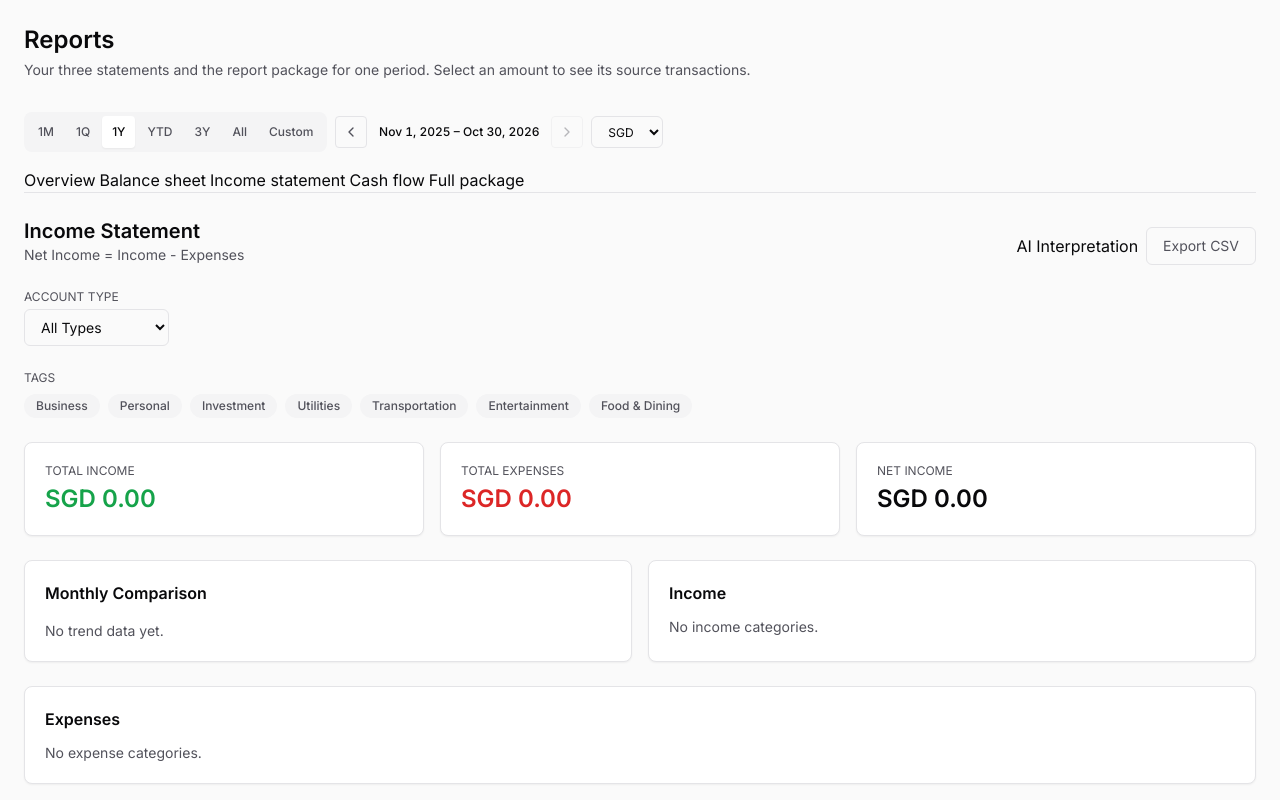
IncomeStatementPage › AC16.14.6 supports selecting and clearing tags
Expected: the heading "Income Statement" is shown, [24,219,200,243]
Click the button "Business" at (62, 406), box [24,394,100,418]
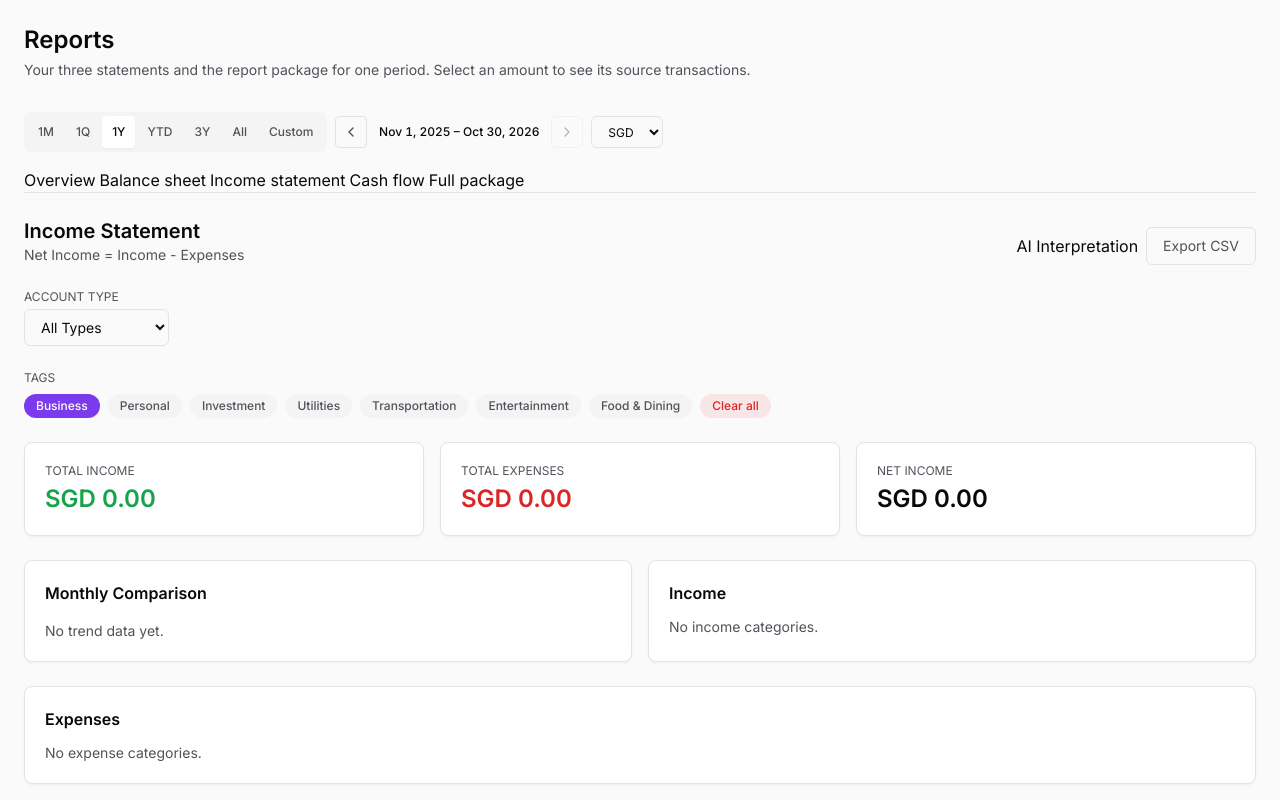
A second click on a selected tag removes only that tag.
Click the button "Personal" at (145, 406), box [108,394,182,418]
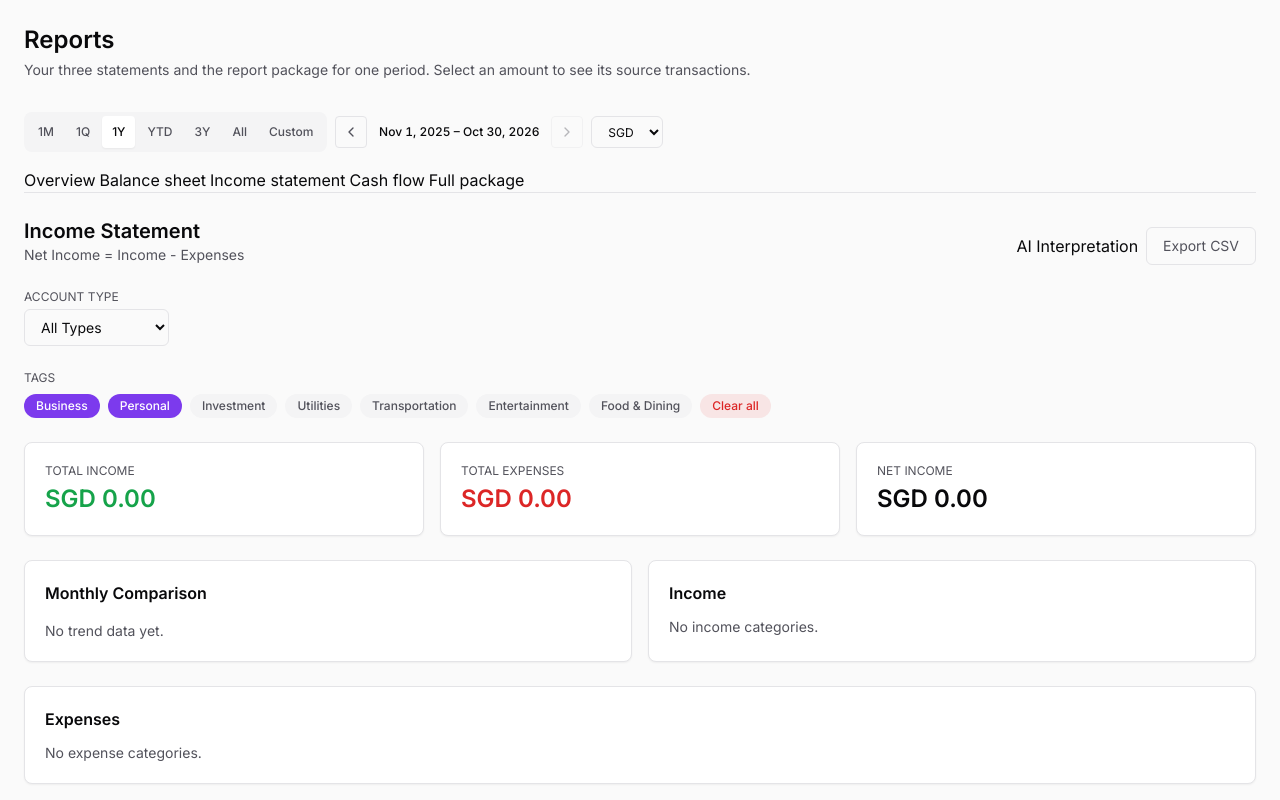
Click the button "Business" at (62, 406), box [24,394,100,418]
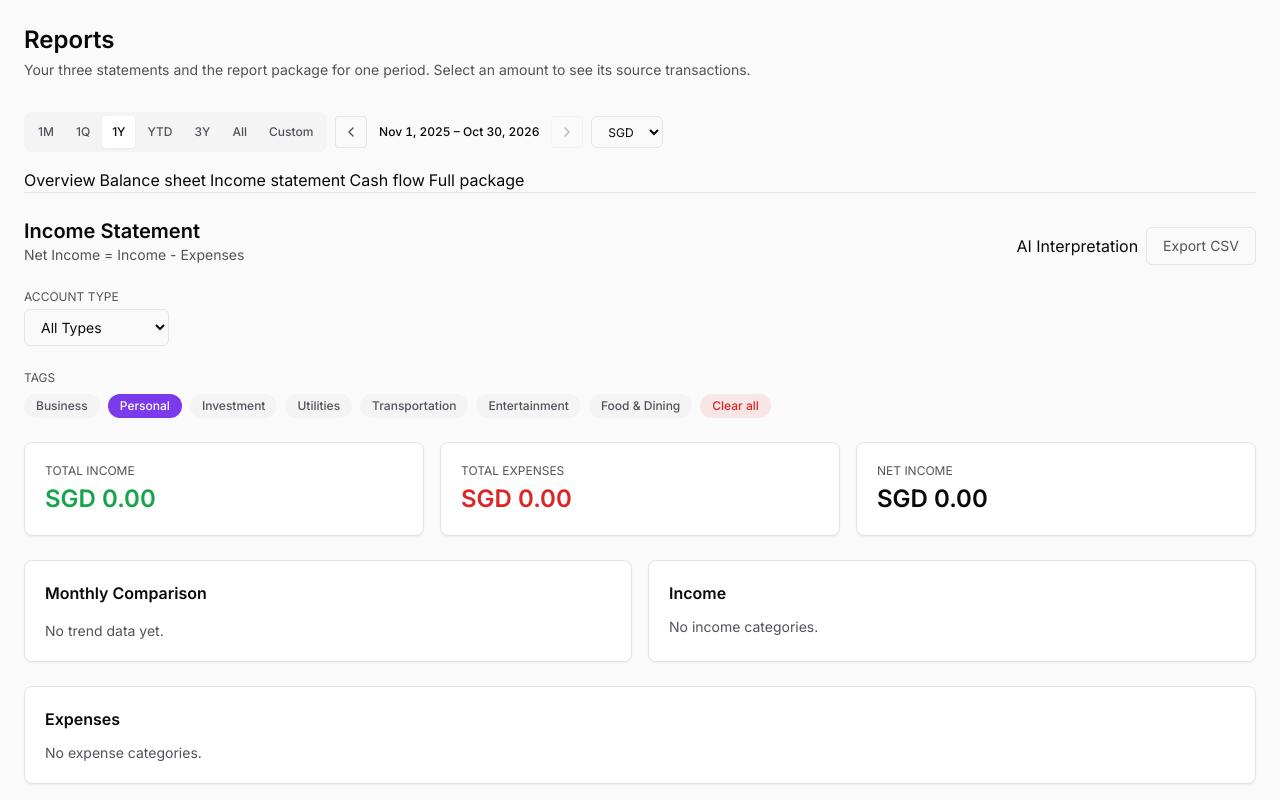
Result: the button "Clear all" is shown
Click the button "Clear all" at (736, 406), box [700,394,771,418]
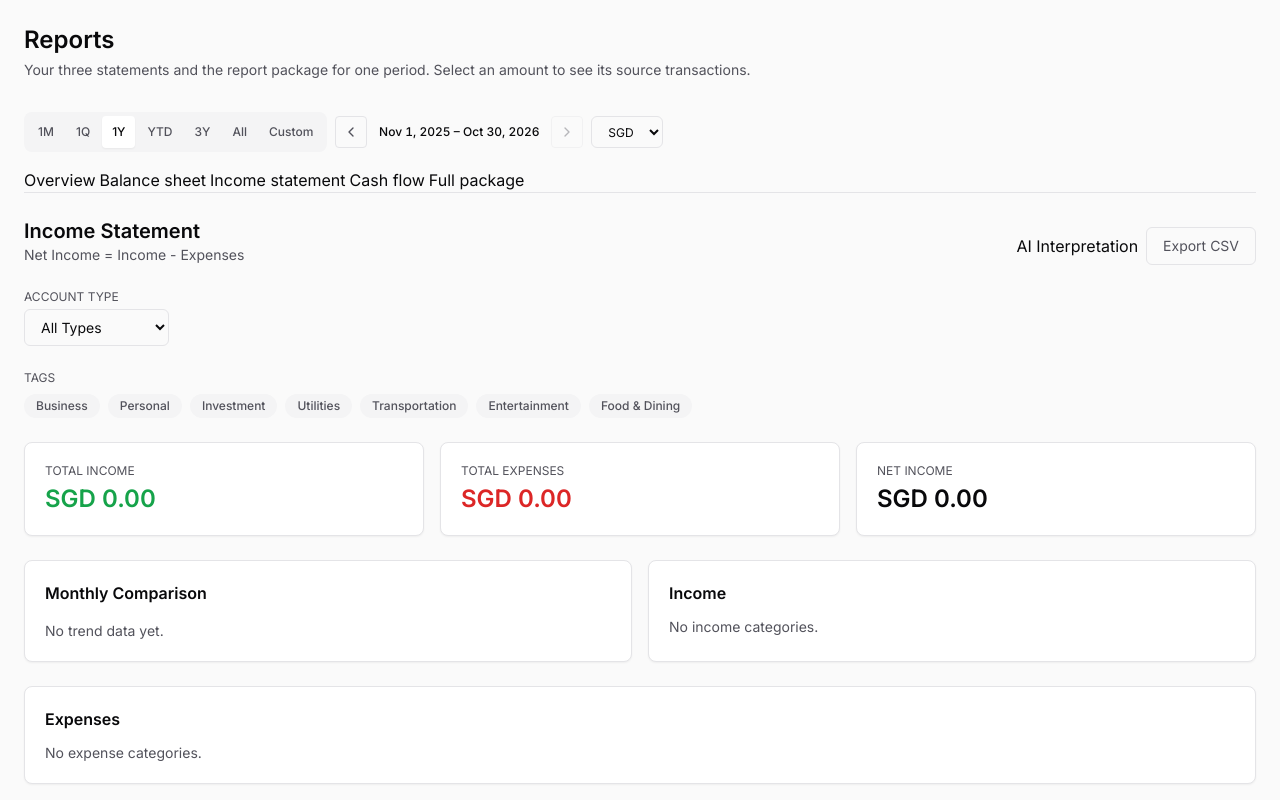
Result: the button "Clear all" is gone
